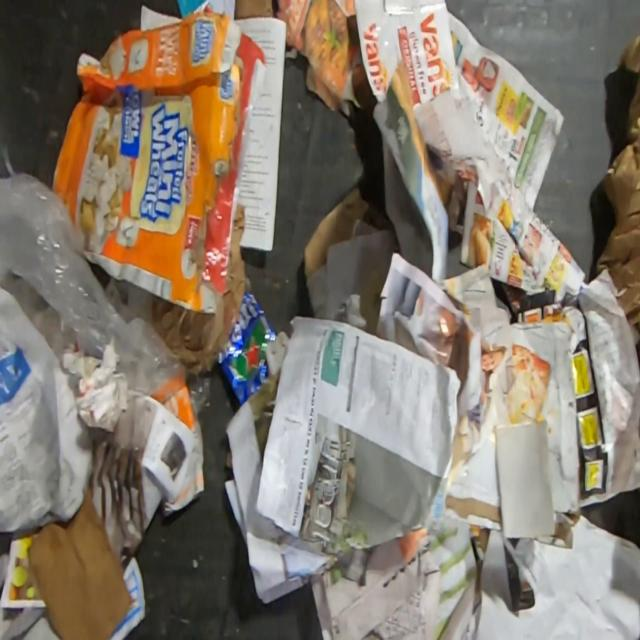cardboard: (48, 2, 267, 315), (26, 472, 133, 640), (303, 187, 388, 281)
metal: (216, 292, 278, 404)
rigid_plastic: (4, 269, 69, 350)
soft_plastic: (0, 170, 211, 416)
